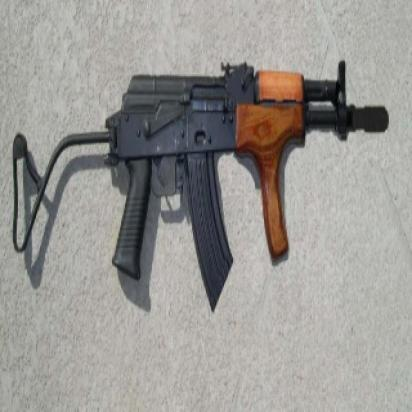Gun: (9, 58, 397, 296)
